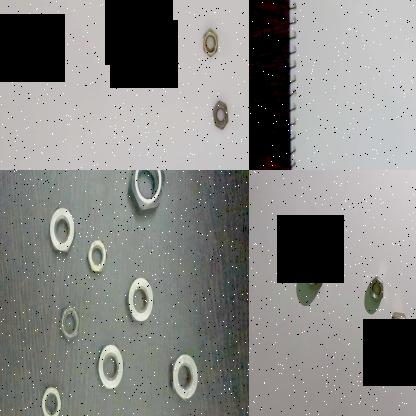NUTS: (121, 276, 156, 328), (127, 170, 164, 218), (96, 335, 126, 392), (169, 352, 199, 404), (46, 206, 76, 258), (384, 311, 410, 355), (83, 232, 107, 278), (301, 254, 325, 295), (40, 382, 66, 416), (59, 300, 80, 342), (210, 94, 230, 134), (201, 26, 219, 60), (368, 273, 386, 303), (130, 0, 152, 23)
